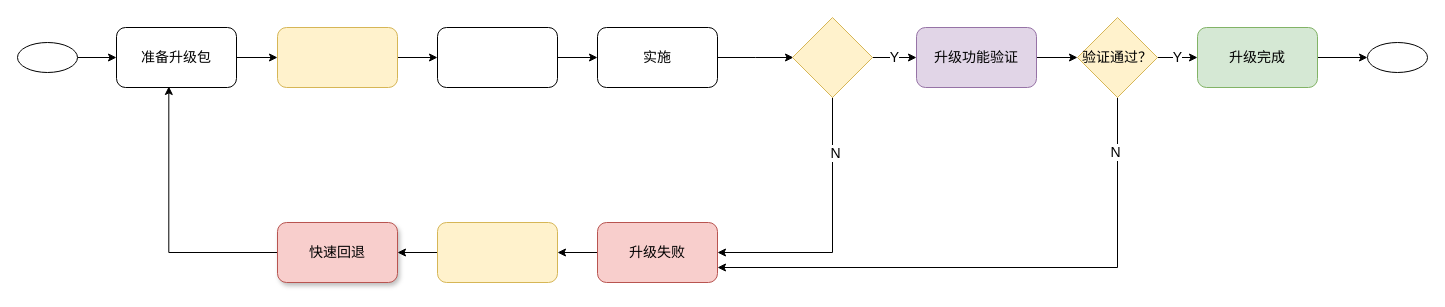
The diagram is 1445 pixels wide and 307 high, and some of its shapes have lost their labels. Each missing label, with the centre of its shape:
"升级成功？" goes at (832,57).
"发包" goes at (497,57).
"定位问题" goes at (497,252).
"验证升级包" goes at (337,57).
